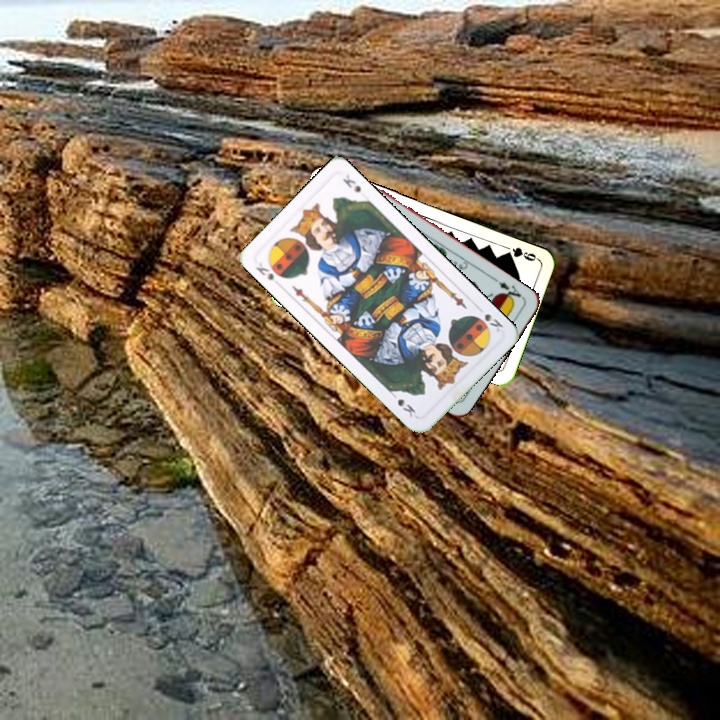EA: (490, 274, 527, 305)
G9: (501, 242, 540, 264)
SK: (472, 302, 506, 334), (252, 258, 277, 284)
